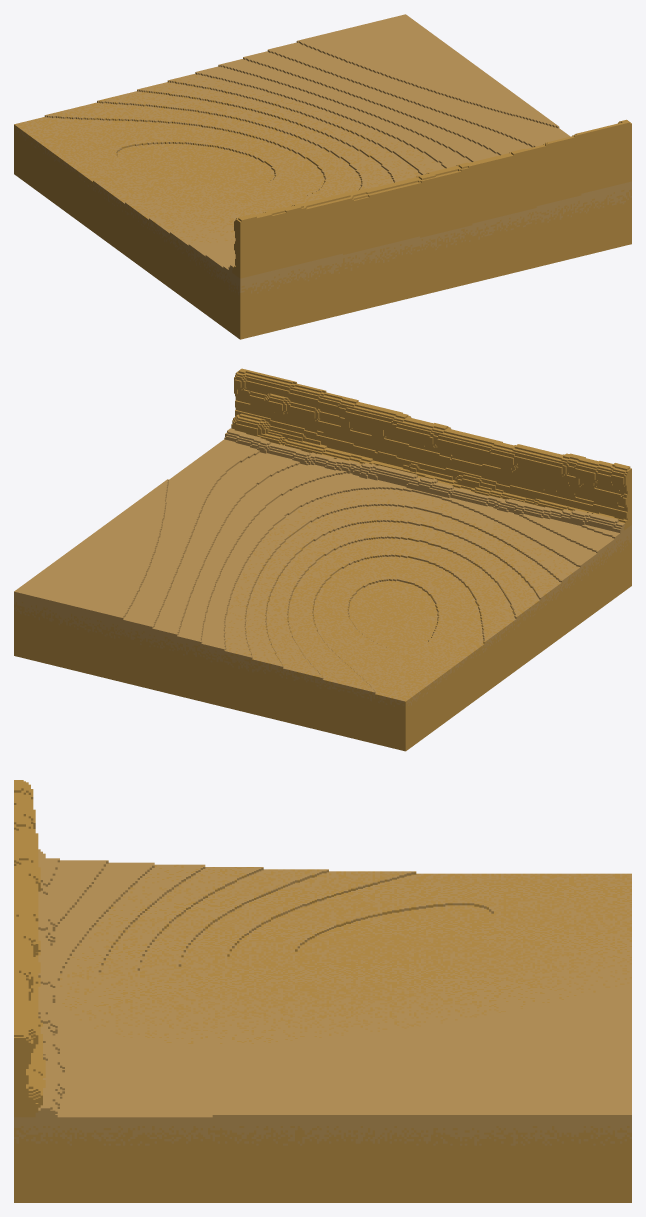
Rendered from Marte-13.obj.
The picture shows the model from 3 angles, top to bottom: view 1: azimuth 30°, elevation 25°; view 2: azimuth 150°, elevation 25°; view 3: azimuth 270°, elevation 25°; orthographic projection. The views are drawn at different scales.
Size of the model in its own units: 25.5 by 7.6 by 25.5.
1 material, 1 textured.
